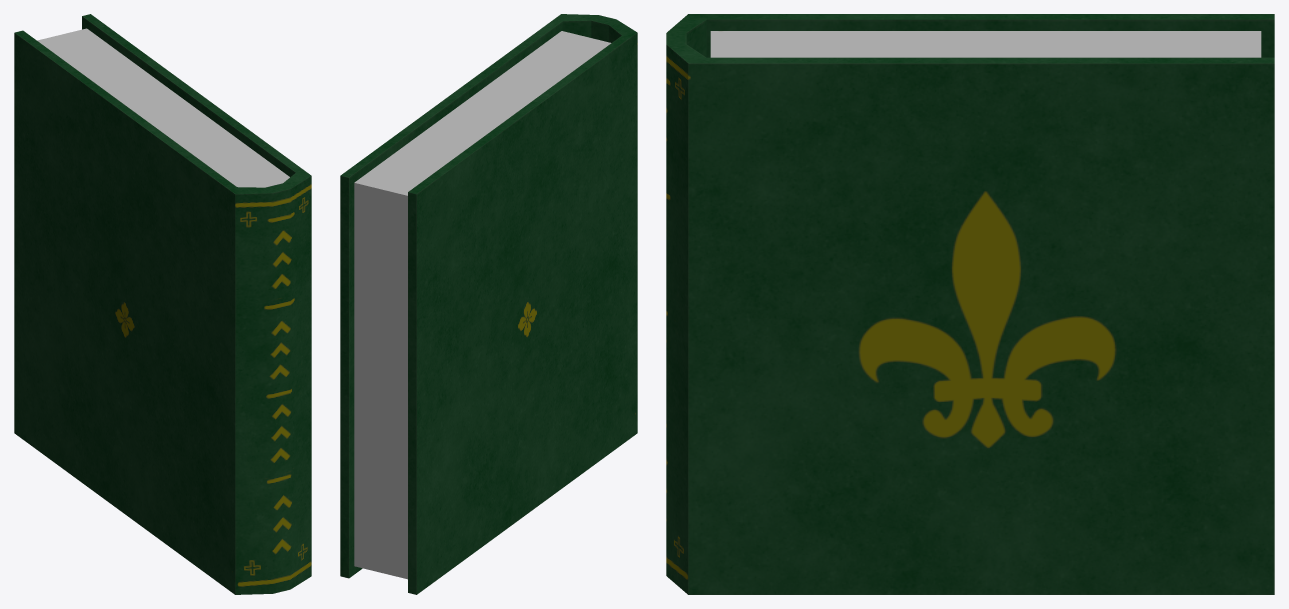
The model's file is Libro_Gv2 1.fbx.
3 views of the same model, side by side, from view 1: azimuth 30°, elevation 25°; view 2: azimuth 150°, elevation 25°; view 3: azimuth 270°, elevation 25° (orthographic). The views are drawn at different scales.
Parts seen in each view (by area): view 1: Libro_C2_geo, Hoja_C2; view 2: Libro_C2_geo, Hoja_C2; view 3: Libro_C2_geo, Hoja_C2.
Boxes of the visible parts, box(x1,y1,x2,y2) form: Libro_C2_geo: box(14, 14, 311, 594); Hoja_C2: box(37, 28, 289, 187); Libro_C2_geo: box(340, 14, 637, 594); Hoja_C2: box(354, 31, 611, 579); Libro_C2_geo: box(666, 14, 1274, 594); Hoja_C2: box(710, 31, 1261, 57).
Size of the model in its own units: 3.54 by 17.74 by 18.4.
Materials: 1 (1 with a texture image).
